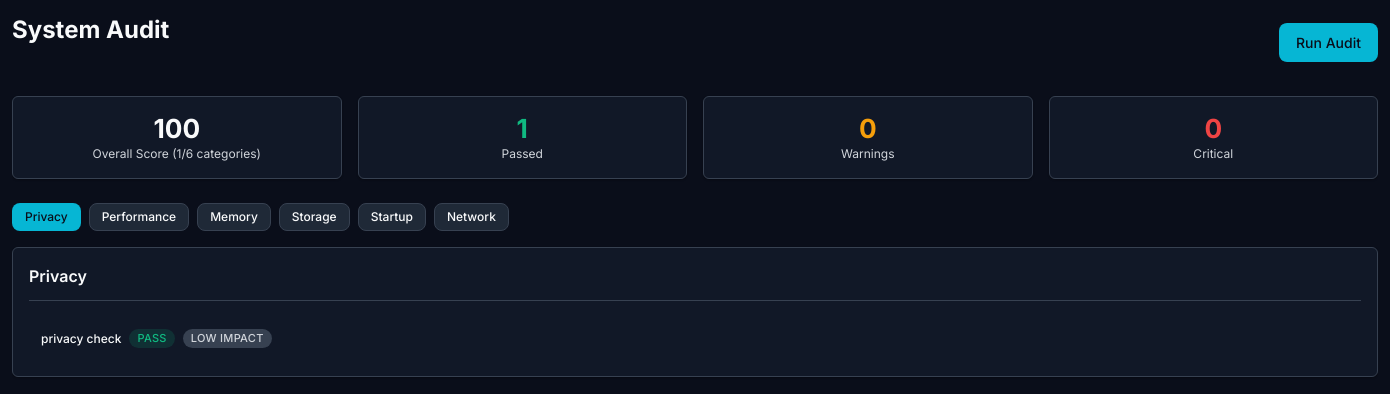
Test: Audit lazy per-category loading (Fase 5.3) › scans a category only when its tab is opened
The width and height of the screenshot is (1390, 394).
Click the button with test id "audit-tab-performance": click(139, 217) x1=89 y1=203 x2=189 y2=231
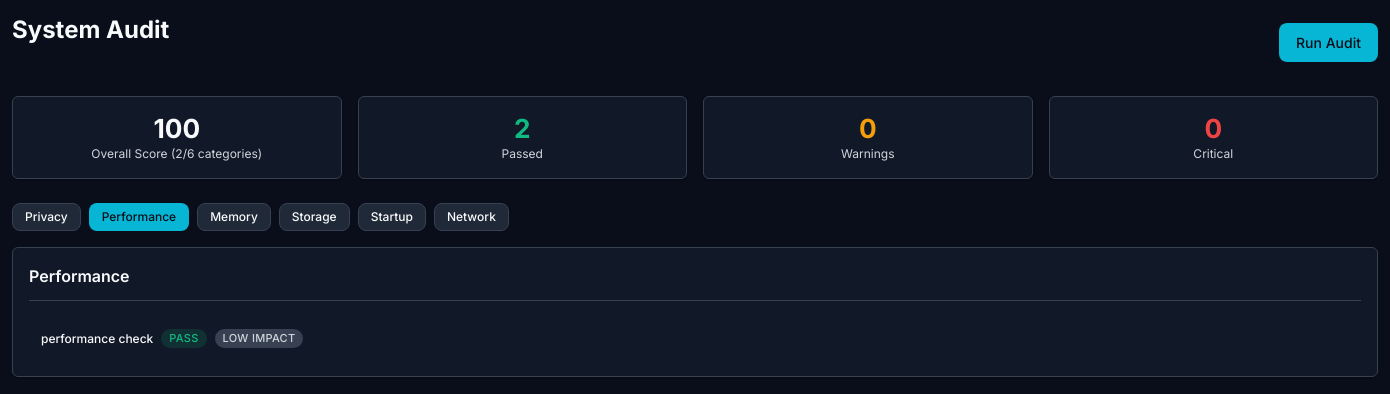
Note: The first category stays cached: no third call when going back to it.
Click the button with test id "audit-tab-privacy": click(46, 217) x1=12 y1=203 x2=81 y2=231
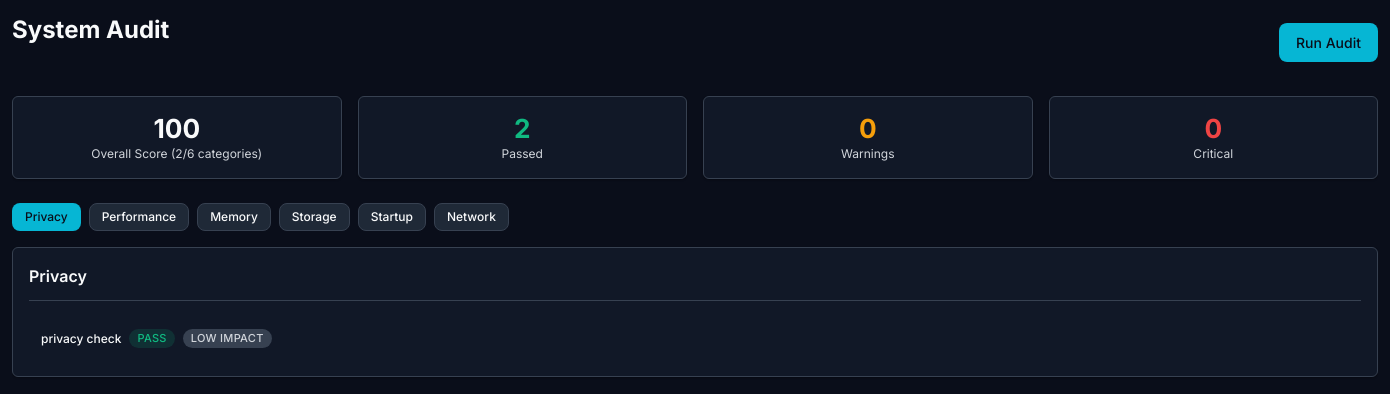
Result: the text "privacy check" is shown at x1=41 y1=330 x2=122 y2=347
